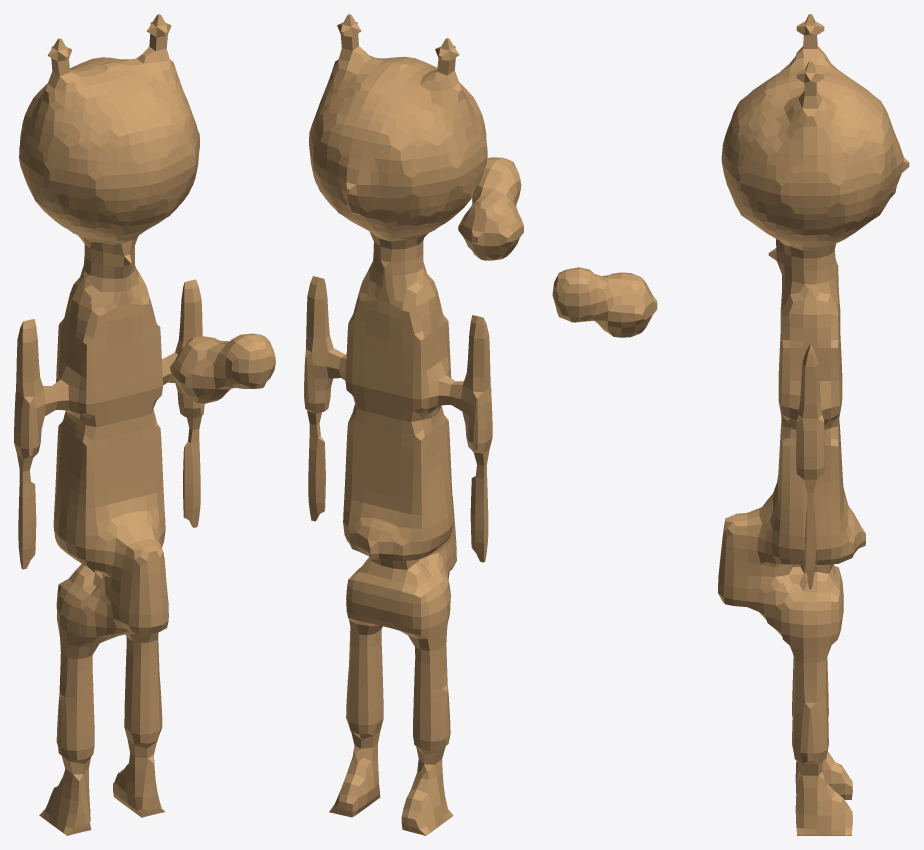
File: dc905b68-07bd-4f08-8345-3dfbd75c924b_final.glb
3 views of the same model, side by side, from view 1: azimuth 30°, elevation 25°; view 2: azimuth 150°, elevation 25°; view 3: azimuth 270°, elevation 25° (orthographic). The views are drawn at different scales.
Visible parts, largest first — view 1: Fox_Character_LowPoly; view 2: Fox_Character_LowPoly; view 3: Fox_Character_LowPoly.
Part boxes in pixels (x1,y1,x2,y2): Fox_Character_LowPoly: (14, 14, 275, 835); Fox_Character_LowPoly: (304, 14, 523, 835); Fox_Character_LowPoly: (552, 14, 909, 835).
Size of the model in its own units: 0.4459 by 1.83 by 0.7653.
